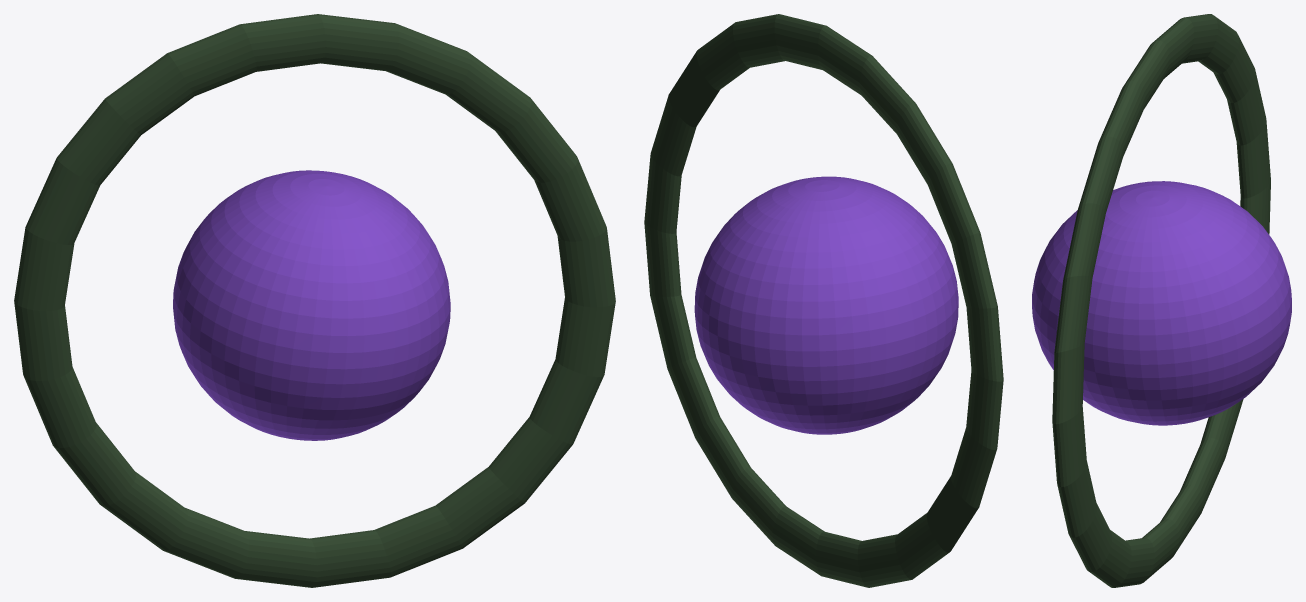
Rendered from tinker.obj.
3 views of the same model, side by side, from view 1: azimuth 30°, elevation 25°; view 2: azimuth 150°, elevation 25°; view 3: azimuth 270°, elevation 25° (orthographic). The views are drawn at different scales.
Parts seen in each view (by area): view 1: group_0_3426865, group_0_8342982; view 2: group_0_8342982, group_0_3426865; view 3: group_0_8342982, group_0_3426865.
Boxes of the visible parts, box(x1,y1,x2,y2) form: group_0_3426865: box(14, 14, 615, 587); group_0_8342982: box(173, 170, 450, 440); group_0_8342982: box(694, 176, 958, 434); group_0_3426865: box(644, 14, 1003, 587); group_0_8342982: box(1032, 181, 1291, 425); group_0_3426865: box(1052, 14, 1270, 587).
Bounding box in the file's own units: 63.03 × 71 × 32.01.
